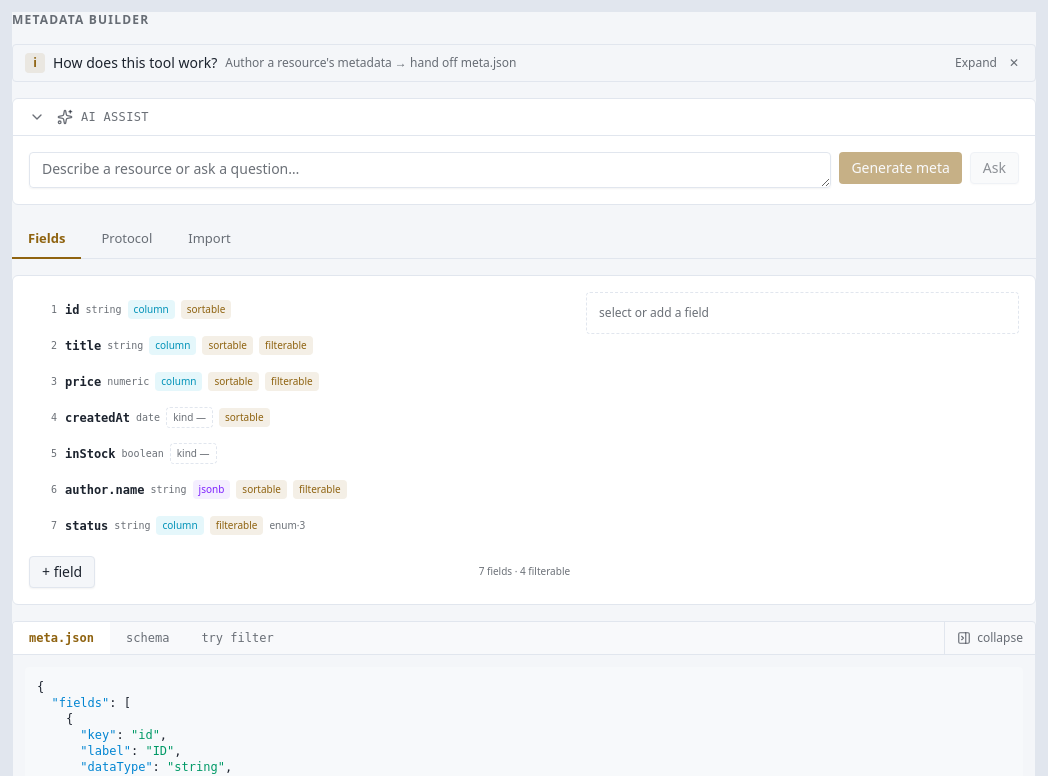
Test: MetadataBuilderTool AI panel › ask records a plain answer entry
Type "what is this?" into the text box with placeholder "Describe a resource or ask a question…" at (430, 170), box [29,152,831,188]
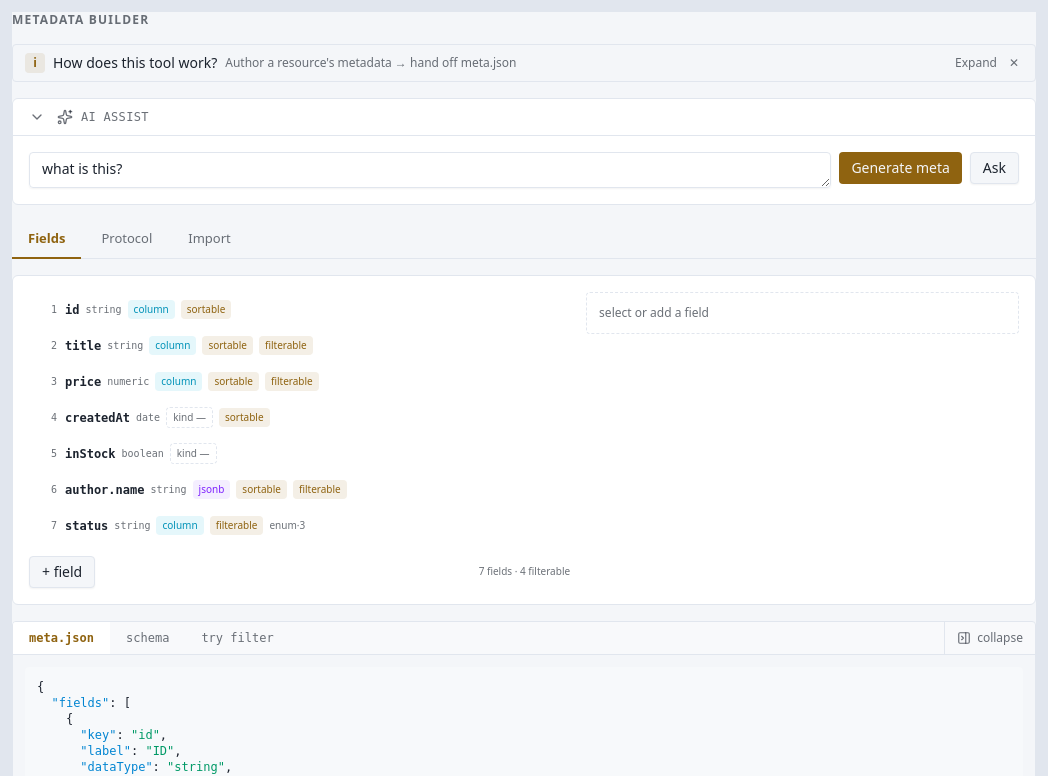
Click the button "Ask" at (994, 168), box [970,152,1019,184]
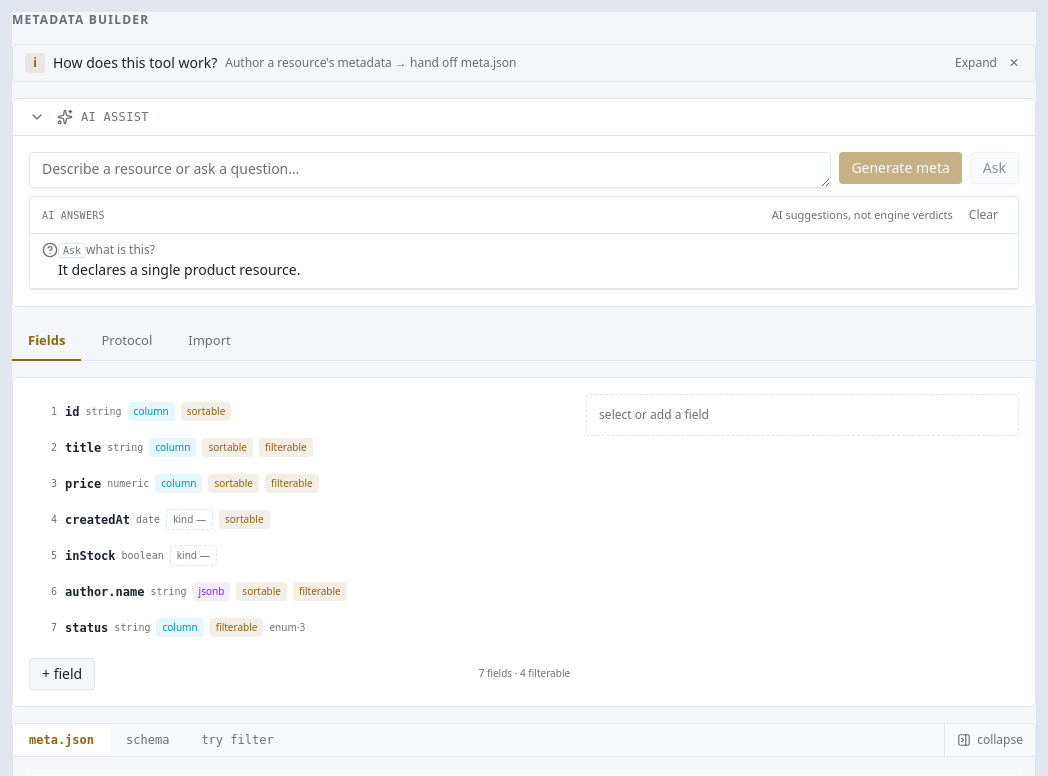
Now the text "It declares a single product resource." is shown, box [58,260,300,280]
